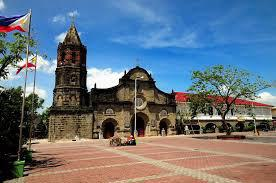barasoain_church_malolos_bulacan: (46, 12, 181, 142)
